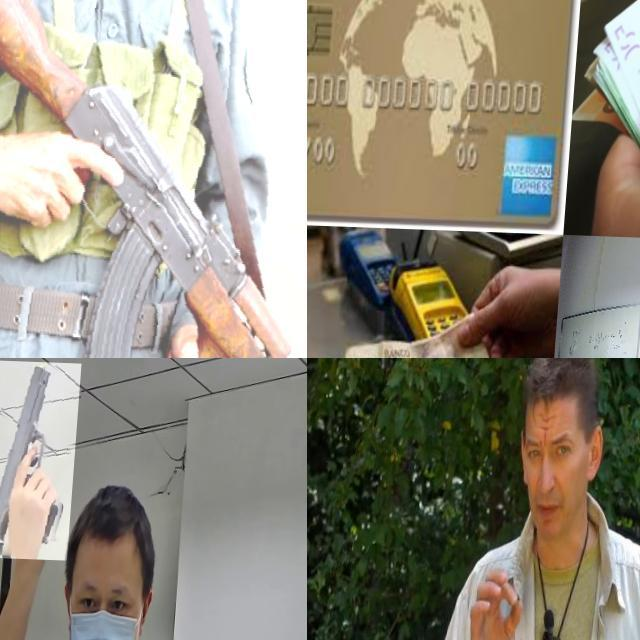gun-knife-thesis - v11 Yolov5 augmented: (0, 0, 307, 358), (0, 360, 85, 559)
